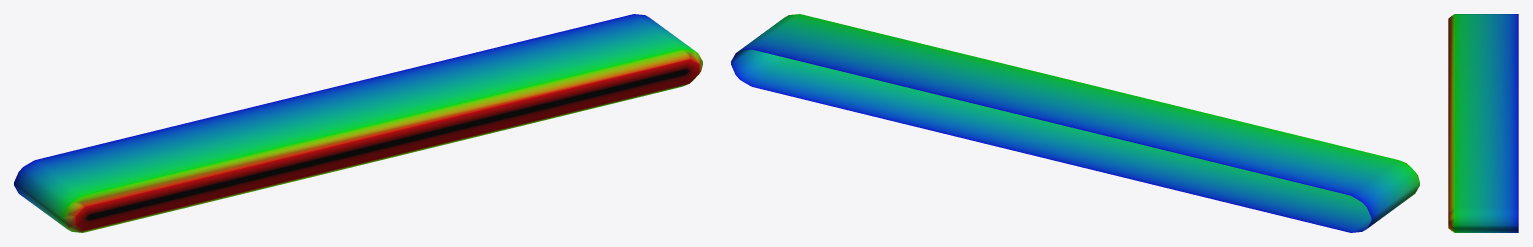
File: scenery_block_large.fbx
3 renders of one model, left to right at view 1: azimuth 30°, elevation 25°; view 2: azimuth 150°, elevation 25°; view 3: azimuth 270°, elevation 25°, orthographic. The views are drawn at different scales.
Visible parts, largest first — view 1: Plane; view 2: Plane; view 3: Plane.
Boxes of the visible parts, <box> form: Plane: <box>14,14,702,232</box>; Plane: <box>731,14,1419,232</box>; Plane: <box>1448,14,1518,232</box>.
Bounding box in the file's own units: 1793 × 99.81 × 259.
